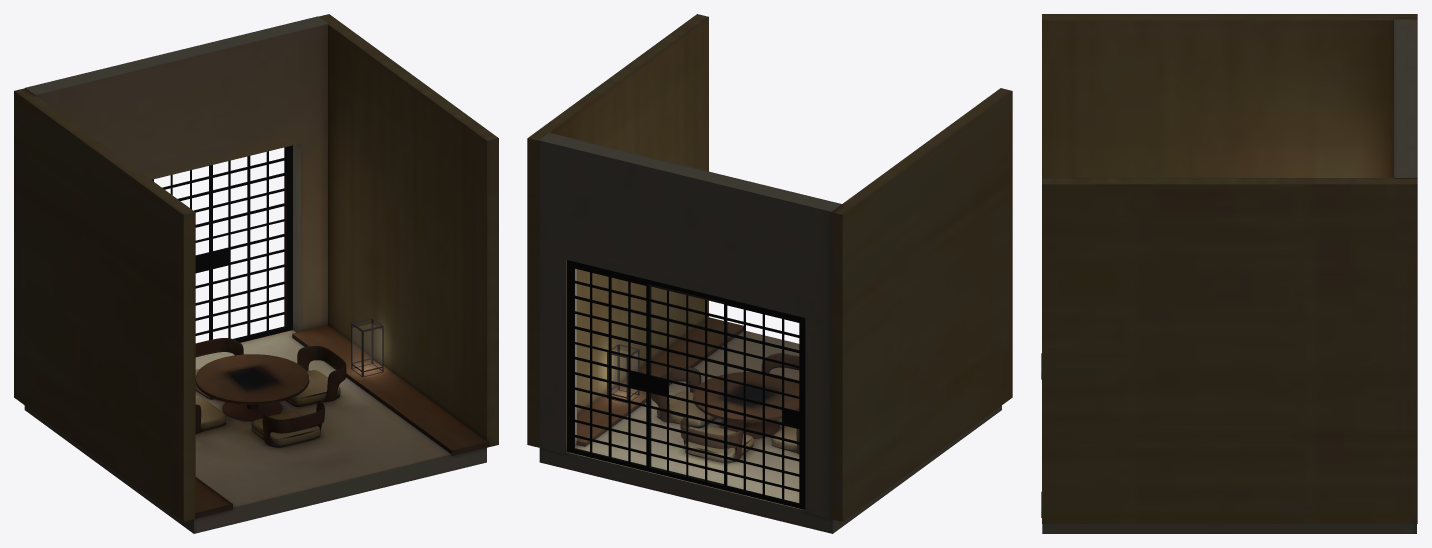
File: saloon.glb
3 views of the same model, side by side, from view 1: azimuth 30°, elevation 25°; view 2: azimuth 150°, elevation 25°; view 3: azimuth 270°, elevation 25° (orthographic). The views are drawn at different scales.
Parts seen in each view (by area): view 1: Mesh_0, Mesh_2, Mesh_9, Mesh_8, Mesh_16, Mesh_12, Mesh_10, Mesh_15, Mesh_1, Mesh_6, Mesh_7, Mesh_13 (+1 smaller); view 2: Mesh_0, Mesh_9, Mesh_2, Mesh_12, Mesh_8, Mesh_1, Mesh_10, Mesh_16, Mesh_15, Mesh_5, Mesh_6, Mesh_13; view 3: Mesh_2, Mesh_0, Mesh_9, Mesh_8.
Boxes of the visible parts, x1=… form: Mesh_0: x1=14, y1=88, x2=195, y2=521; Mesh_2: x1=319, y1=14, x2=498, y2=446; Mesh_9: x1=25, y1=16, x2=328, y2=332; Mesh_8: x1=24, y1=330, x2=486, y2=533; Mesh_16: x1=195, y1=325, x2=488, y2=518; Mesh_12: x1=152, y1=147, x2=285, y2=339; Mesh_10: x1=195, y1=354, x2=309, y2=421; Mesh_15: x1=195, y1=369, x2=340, y2=446; Mesh_1: x1=234, y1=145, x2=292, y2=342; Mesh_6: x1=286, y1=346, x2=346, y2=406; Mesh_7: x1=251, y1=401, x2=324, y2=447; Mesh_13: x1=351, y1=318, x2=383, y2=377; Mesh_0: x1=831, y1=88, x2=1012, y2=521; Mesh_9: x1=538, y1=132, x2=842, y2=518; Mesh_2: x1=527, y1=14, x2=708, y2=447; Mesh_12: x1=572, y1=266, x2=802, y2=505; Mesh_8: x1=539, y1=331, x2=1001, y2=533; Mesh_1: x1=567, y1=260, x2=805, y2=509; Mesh_10: x1=693, y1=372, x2=799, y2=438; Mesh_16: x1=576, y1=317, x2=743, y2=446; Mesh_15: x1=656, y1=391, x2=796, y2=461; Mesh_5: x1=680, y1=417, x2=753, y2=463; Mesh_6: x1=651, y1=367, x2=716, y2=428; Mesh_13: x1=607, y1=344, x2=639, y2=403; Mesh_2: x1=1042, y1=178, x2=1417, y2=523; Mesh_0: x1=1042, y1=14, x2=1417, y2=177; Mesh_9: x1=1394, y1=19, x2=1417, y2=178; Mesh_8: x1=1042, y1=524, x2=1416, y2=533.
Size of the model in its own units: 28.17 by 27.5 by 26.32.
14 materials, 13 textured.
